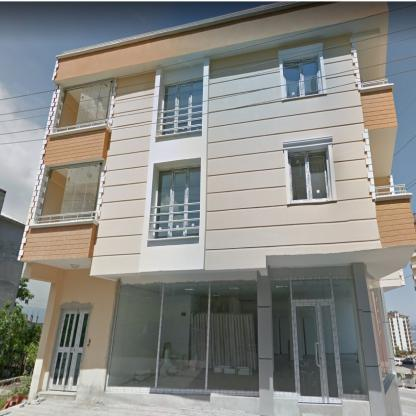door: (293, 300, 341, 404), (49, 309, 90, 391)
window: (106, 282, 258, 395), (270, 276, 368, 399), (154, 167, 200, 238), (59, 162, 102, 220), (288, 147, 332, 203), (162, 77, 202, 134), (283, 53, 323, 99), (76, 80, 112, 127)
